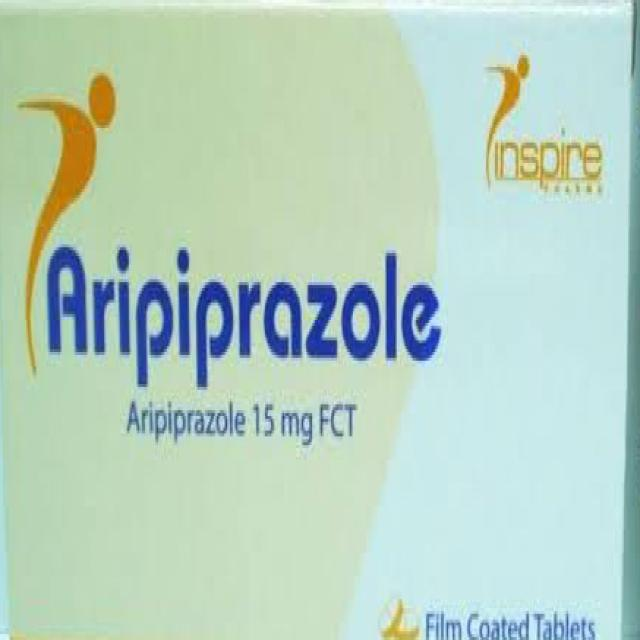drug-name: (41, 242, 448, 388)
